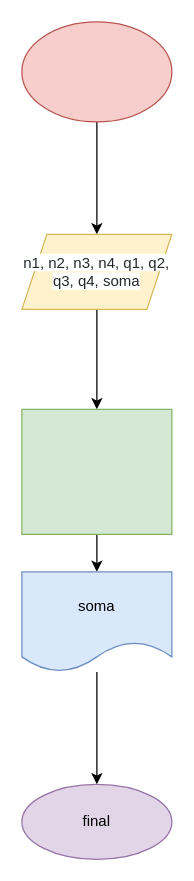
This 194x881 diagram has some shape labels left out. The shapes that lost their labels are listed below. From the top down, each one's box as (x1, y1, x2, y2) in pixels, then its label:
(21, 21, 172, 122): inicio
(21, 408, 172, 534): q1<-n1*n1 q2<-n2*n2 q3<-n3*n3 q4<-n4*n4 soma <- q1+q2+q3+q4
